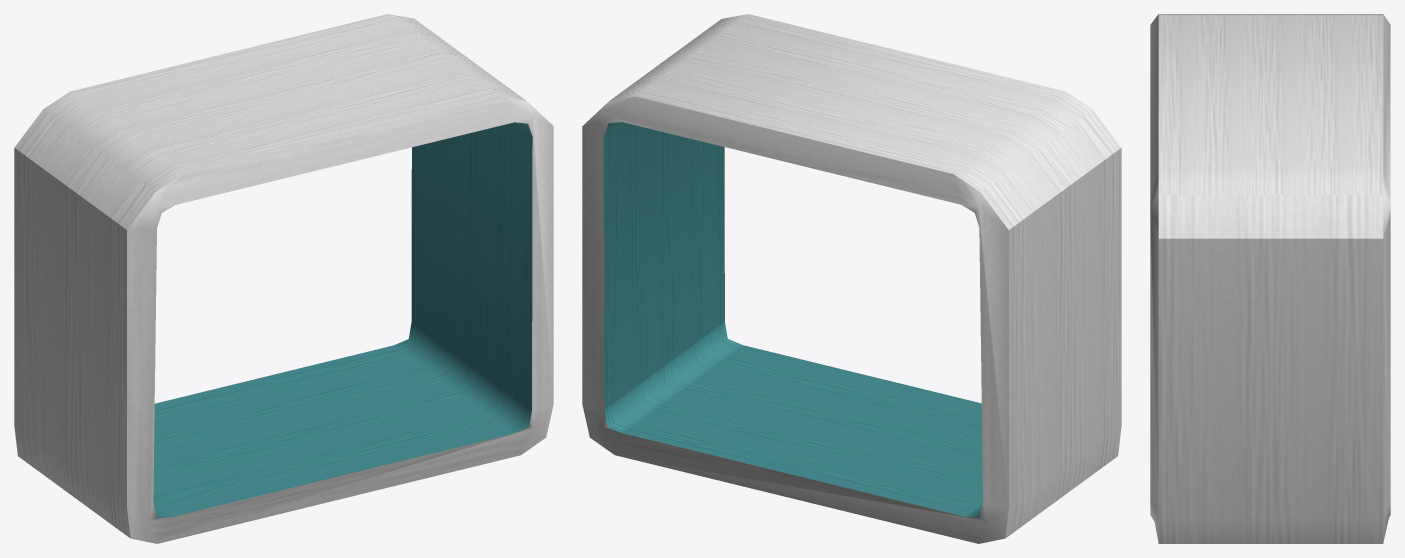
File: Wall_Shelf_02_I.FBX
The picture shows the model from 3 angles, left to right: view 1: azimuth 30°, elevation 25°; view 2: azimuth 150°, elevation 25°; view 3: azimuth 270°, elevation 25°; orthographic projection.
Parts seen in each view (by area): view 1: Wall_Shelf_02; view 2: Wall_Shelf_02; view 3: Wall_Shelf_02.
Boxes of the visible parts, box(x1,y1,x2,y2) form: Wall_Shelf_02: box(14, 14, 553, 543); Wall_Shelf_02: box(582, 14, 1121, 543); Wall_Shelf_02: box(1150, 14, 1390, 543).
Size of the model in its own units: 120 by 98.08 by 58.85.
